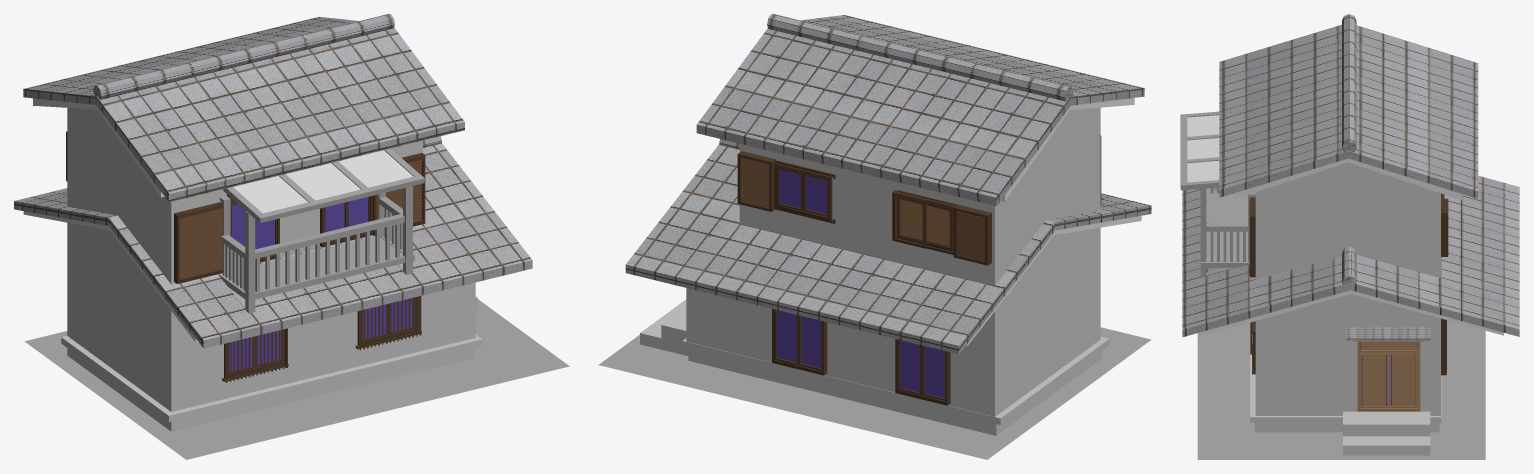
The model's file is House11_middle.fbx.
The picture shows the model from 3 angles, left to right: view 1: azimuth 30°, elevation 25°; view 2: azimuth 150°, elevation 25°; view 3: azimuth 270°, elevation 25°; orthographic projection. The views are drawn at different scales.
Parts seen in each view (by area): view 1: polySurface156; view 2: polySurface156; view 3: polySurface156.
Part boxes in pixels (x1,y1,x2,y2): polySurface156: (14, 14, 569, 459); polySurface156: (599, 14, 1151, 459); polySurface156: (1180, 14, 1519, 459).
Size of the model in its own units: 12.08 by 9.34 by 10.27.
